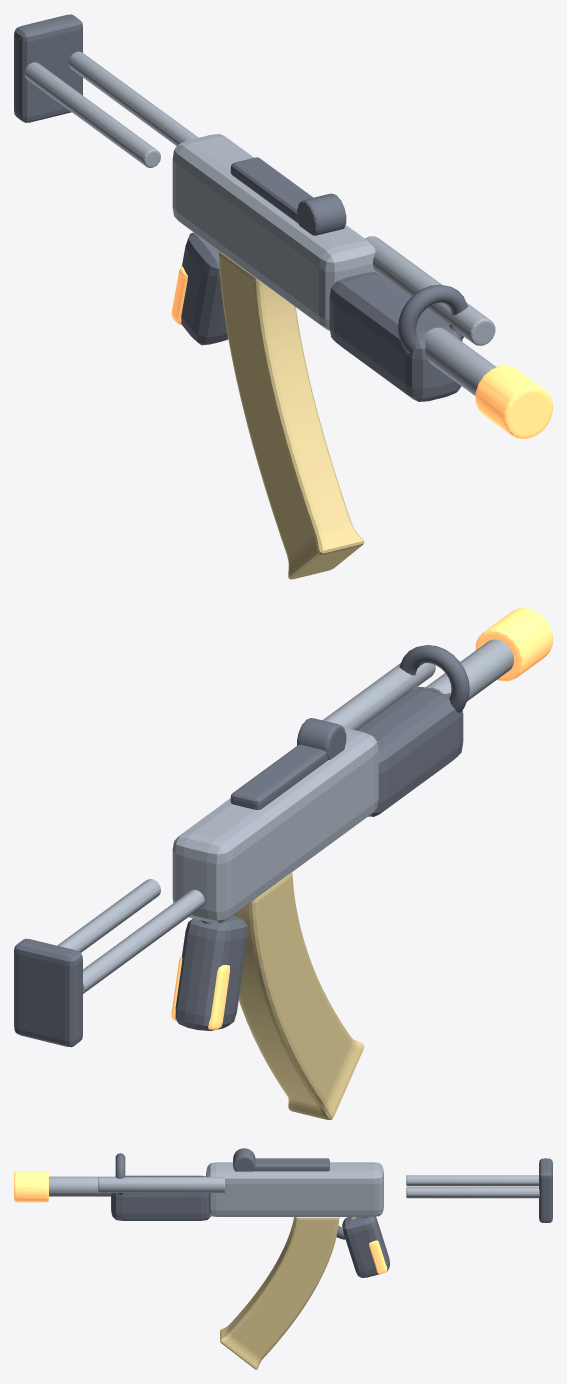
The picture shows the model from 3 angles, top to bottom: view 1: azimuth 30°, elevation 25°; view 2: azimuth 150°, elevation 25°; view 3: azimuth 270°, elevation 25°; orthographic projection. The views are drawn at different scales.
Visible parts, largest first — view 1: WPN_MP5_Mag.001, WPN_MP5_Receiver.001, WPN_MP5_Handguard.001, WPN_MP5_ButtPlate.001, WPN_MP5_Muzzle.001, WPN_MP5_Grip.001, WPN_MP5_CockTube.001, WPN_MP5_StockRodL.001, WPN_MP5_StockRodR.001, WPN_MP5_Barrel.001, WPN_MP5_Rail.001, WPN_MP5_FrontSight.001 (+1 smaller); view 2: WPN_MP5_Receiver.001, WPN_MP5_Mag.001, WPN_MP5_Handguard.001, WPN_MP5_ButtPlate.001, WPN_MP5_Grip.001, WPN_MP5_StockRodL.001, WPN_MP5_Muzzle.001, WPN_MP5_Rail.001, WPN_MP5_CockTube.001, WPN_MP5_StockRodR.001, WPN_MP5_Barrel.001, WPN_MP5_FrontSight.001 (+2 smaller); view 3: WPN_MP5_Receiver.001, WPN_MP5_Mag.001, WPN_MP5_Handguard.001, WPN_MP5_CockTube.001, WPN_MP5_Grip.001, WPN_MP5_StockRodR.001, WPN_MP5_StockRodL.001, WPN_MP5_Barrel.001, WPN_MP5_Muzzle.001, WPN_MP5_Rail.001, WPN_MP5_ButtPlate.001, WPN_MP5_RearSight.001 (+1 smaller).
Part boxes in pixels (x1,y1,x2,y2): WPN_MP5_Mag.001: (218,251,364,579); WPN_MP5_Receiver.001: (172,134,376,330); WPN_MP5_Handguard.001: (329,272,462,401); WPN_MP5_ButtPlate.001: (14,14,82,122); WPN_MP5_Muzzle.001: (475,365,552,438); WPN_MP5_Grip.001: (181,232,228,345); WPN_MP5_CockTube.001: (365,236,495,345); WPN_MP5_StockRodL.001: (24,62,160,167); WPN_MP5_StockRodR.001: (68,51,198,145); WPN_MP5_Barrel.001: (424,327,496,395); WPN_MP5_Rail.001: (230,157,312,223); WPN_MP5_FrontSight.001: (397,284,467,352); WPN_MP5_Receiver.001: (172,727,378,923); WPN_MP5_Mag.001: (233,872,364,1119); WPN_MP5_Handguard.001: (357,687,463,816); WPN_MP5_ButtPlate.001: (14,938,82,1047); WPN_MP5_Grip.001: (175,915,247,1030); WPN_MP5_StockRodL.001: (83,889,204,993); WPN_MP5_Muzzle.001: (475,608,552,681); WPN_MP5_Rail.001: (230,744,328,809); WPN_MP5_CockTube.001: (323,663,435,730); WPN_MP5_StockRodR.001: (57,879,160,952); WPN_MP5_Barrel.001: (424,639,513,701); WPN_MP5_FrontSight.001: (399,645,469,712); WPN_MP5_Receiver.001: (206,1162,383,1216); WPN_MP5_Mag.001: (220,1217,339,1369); WPN_MP5_Handguard.001: (111,1175,210,1220); WPN_MP5_CockTube.001: (98,1177,225,1192); WPN_MP5_Grip.001: (342,1216,389,1277); WPN_MP5_StockRodR.001: (406,1187,539,1198); WPN_MP5_StockRodL.001: (406,1175,538,1186); WPN_MP5_Barrel.001: (49,1176,115,1196); WPN_MP5_Muzzle.001: (14,1171,48,1202); WPN_MP5_Rail.001: (253,1158,329,1171); WPN_MP5_ButtPlate.001: (539,1158,552,1222); WPN_MP5_RearSight.001: (233,1148,255,1171).
Bounding box in the file's own units: 0.0777 × 0.3691 × 0.8485.
